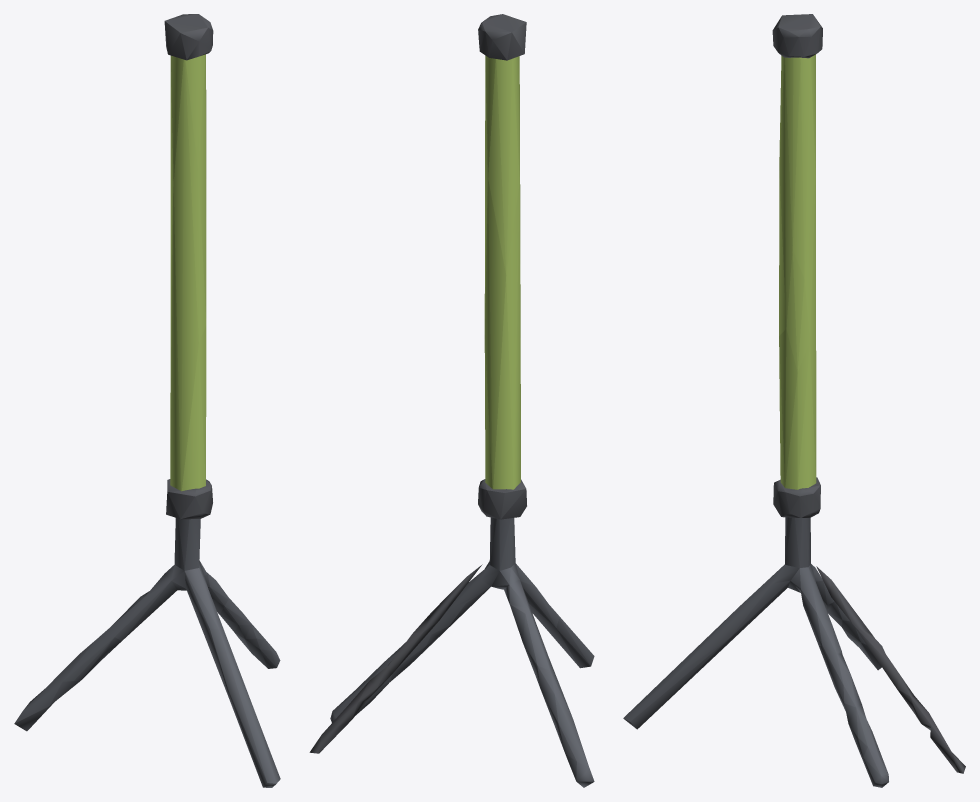
The model's file is neon_pied_g.glb.
3 views of the same model, side by side, from view 1: azimuth 30°, elevation 25°; view 2: azimuth 150°, elevation 25°; view 3: azimuth 270°, elevation 25° (orthographic).
Parts seen in each view (by area): view 1: neon_pied_g_glow, neon_pied_g; view 2: neon_pied_g, neon_pied_g_glow; view 3: neon_pied_g, neon_pied_g_glow.
Part boxes in pixels (<box>): neon_pied_g_glow: <box>170,54,206,491</box>; neon_pied_g: <box>14,14,280,787</box>; neon_pied_g: <box>309,14,594,787</box>; neon_pied_g_glow: <box>484,55,520,489</box>; neon_pied_g: <box>623,14,965,787</box>; neon_pied_g_glow: <box>779,54,816,489</box>.
Bounding box in the file's own units: 0.3725 × 0.9548 × 0.4189.
